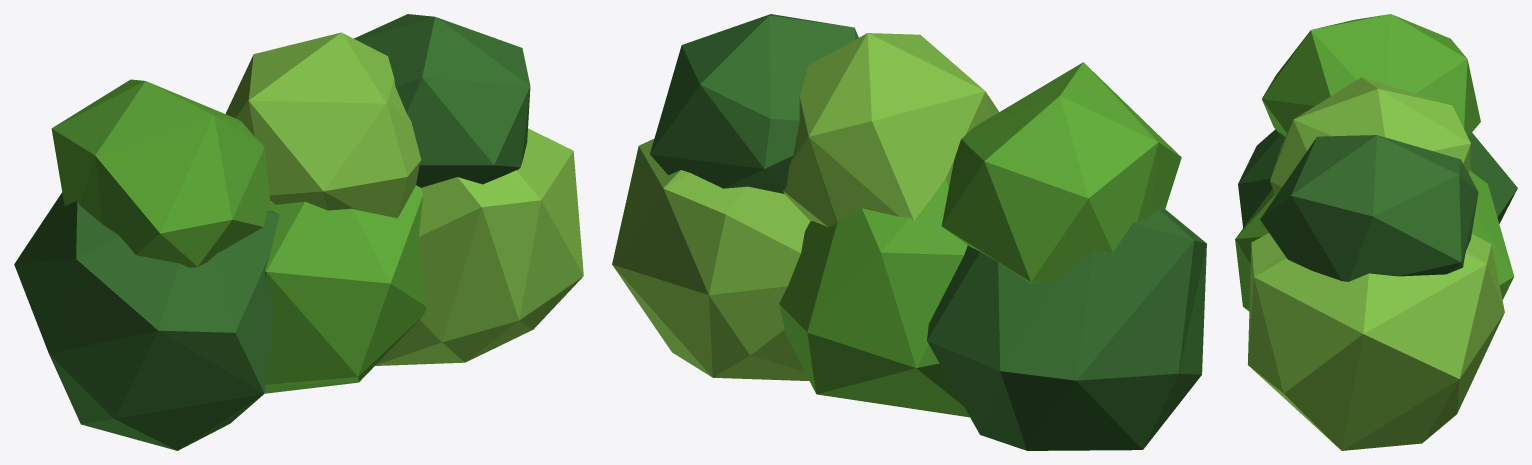
File: hedge_end_1_lod1.glb
3 renders of one model, left to right at view 1: azimuth 30°, elevation 25°; view 2: azimuth 150°, elevation 25°; view 3: azimuth 270°, elevation 25°, orthographic. The views are drawn at different scales.
Visible parts, largest first — view 1: hedge_end_1_lod1; view 2: hedge_end_1_lod1; view 3: hedge_end_1_lod1.
Boxes of the visible parts, x1=… form: hedge_end_1_lod1: x1=14, y1=14, x2=583, y2=450; hedge_end_1_lod1: x1=612, y1=14, x2=1206, y2=450; hedge_end_1_lod1: x1=1235, y1=14, x2=1517, y2=450.
Size of the model in its own units: 2.38 by 1.49 by 1.27.
